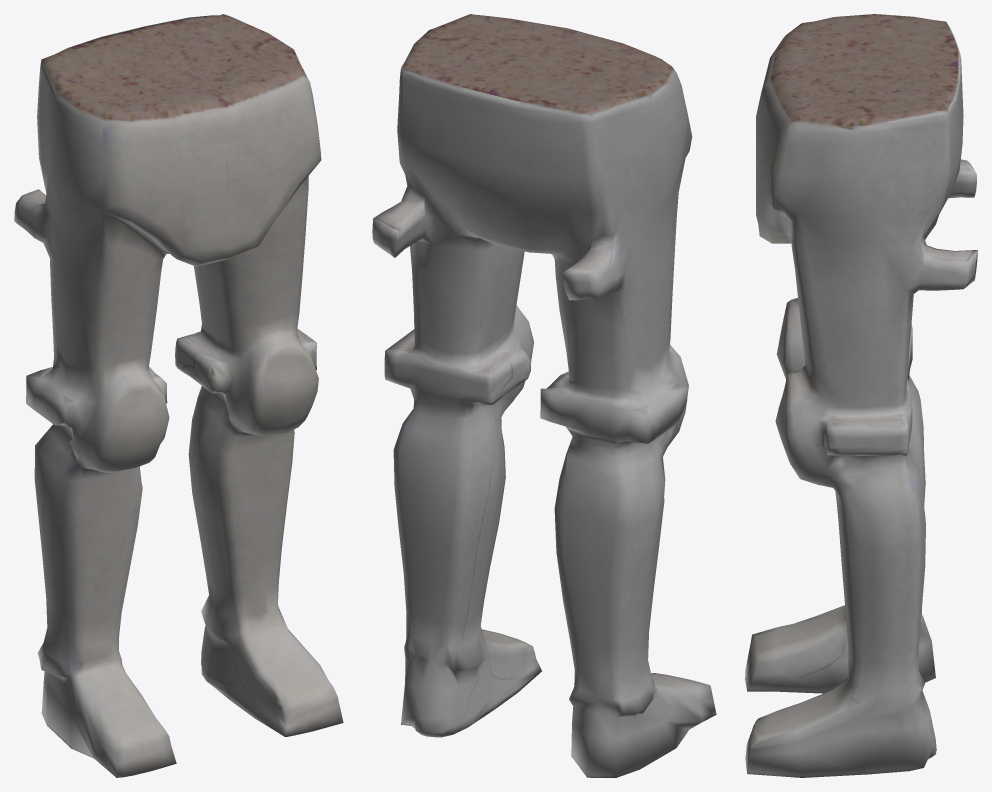
The model's file is legs-metal-base.glb.
The picture shows the model from 3 angles, left to right: view 1: azimuth 30°, elevation 25°; view 2: azimuth 150°, elevation 25°; view 3: azimuth 270°, elevation 25°; orthographic projection. The views are drawn at different scales.
Visible parts, largest first — view 1: file1; view 2: file1; view 3: file1.
Boxes of the visible parts, <box> form: file1: <box>14,14,343,777</box>; file1: <box>372,14,716,777</box>; file1: <box>745,14,977,777</box>.
Bounding box in the file's own units: 0.8227 × 2 × 0.646.
1 material, 1 textured.
